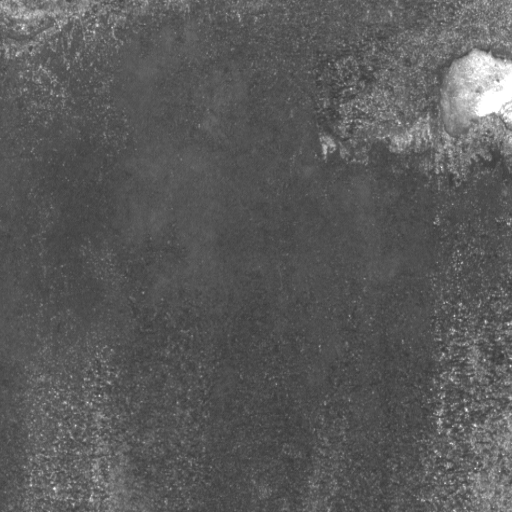qiaopi: (437, 44, 512, 137)
